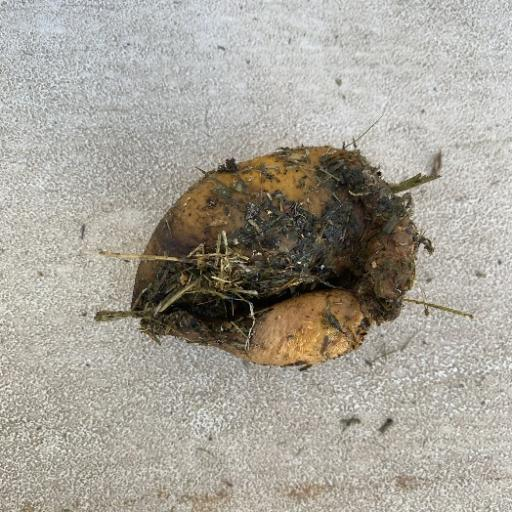Waste: (96, 141, 444, 368)
